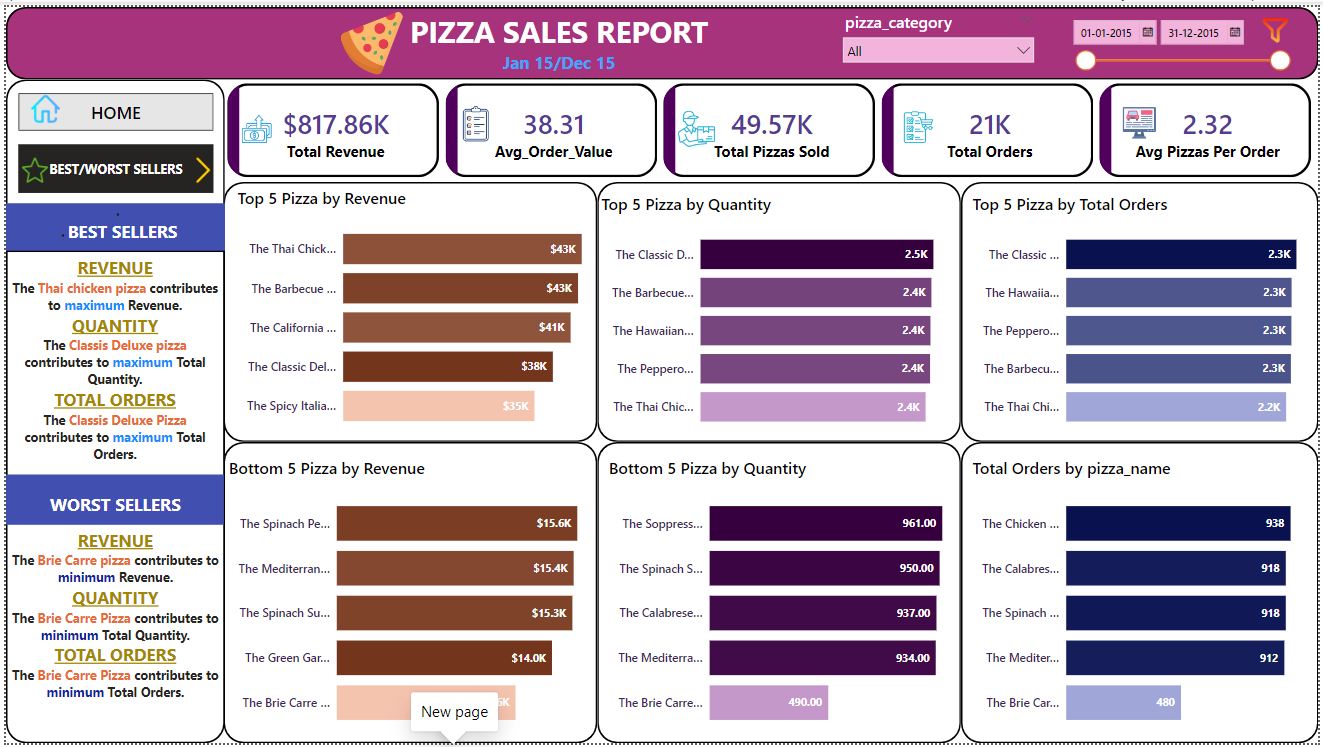

This screenshot's page, from the dashboard's own definition file:
{"tool":"powerbi","page":{"name":"BEST/WORST SELLERS","canvas":[1650,925],"ordinal":1},"visuals":[{"type":"cardVisual","fields":{"Data":["pizza_sales.Total Revenue","pizza_sales.Avg_Order_Value","pizza_sales.Total Pizzas Sold","pizza_sales.Total Orders","pizza_sales.Avg Pizzas Per Order"]},"box":[273.4,91.1,1376.2,128.8],"z":0},{"type":"shape","box":[273.4,219.9,469.7,326.8],"z":1000},{"type":"shape","box":[0,91.1,274.9,834.2],"z":2000},{"type":"textbox","box":[0,246.6,274.9,59.7],"z":3000},{"type":"textbox","box":[0,306.3,274.9,300.1],"z":4000},{"type":"textbox","box":[0,587.6,274.9,62.8],"z":5000},{"type":"textbox","box":[0,650.4,274.9,274.9],"z":6000},{"type":"shape","box":[0,0,1649.6,91.1],"z":7000},{"type":"textbox","box":[438.3,0,513.7,106.8],"z":8000},{"type":"slicer","fields":{"Values":["pizza_sales.pizza_category"]},"box":[1041.6,0,260.8,95.8],"z":9000},{"type":"slicer","fields":{"Values":["pizza_sales.order_date"]},"box":[1329.1,6.3,293.8,84.8],"z":10000},{"type":"shape","box":[743.1,219.9,457.2,326.8],"z":11000},{"type":"shape","box":[1200.2,219.9,449.3,326.8],"z":12000},{"type":"shape","box":[273.4,546.7,469.7,378.6],"z":13000},{"type":"shape","box":[743.1,546.7,457.2,378.6],"z":14000},{"type":"shape","box":[1200.2,546.7,449.3,378.6],"z":15000},{"type":"barChart","title":"Top 5 Pizza by Revenue","fields":{"Category":["pizza_sales.pizza_name"],"Y":["pizza_sales.Total Revenue"]},"box":[285.9,226.2,499.6,320.5],"z":16000},{"type":"barChart","title":"Bottom 5 Pizza by Revenue ","fields":{"Category":["pizza_sales.pizza_name"],"Y":["pizza_sales.Total Revenue"]},"box":[274.9,565.6,510.6,359.8],"z":17000},{"type":"barChart","title":"Top 5 Pizza by Quantity","fields":{"Category":["pizza_sales.pizza_name"],"Y":["pizza_sales.Total Pizzas Sold"]},"box":[743.1,234.1,466.6,312.6],"z":18000},{"type":"barChart","title":"Bottom 5 Pizza by Quantity","fields":{"Category":["pizza_sales.pizza_name"],"Y":["pizza_sales.Total Pizzas Sold"]},"box":[752.5,565.6,474.4,359.8],"z":19000},{"type":"barChart","title":"Top 5 Pizza by Total Orders","fields":{"Category":["pizza_sales.pizza_name"],"Y":["pizza_sales.Total Orders"]},"box":[1209.7,234.1,441.5,312.6],"z":20000},{"type":"barChart","fields":{"Category":["pizza_sales.pizza_name"],"Y":["pizza_sales.Total Orders"]},"box":[1209.7,565.6,439.9,359.8],"z":21000},{"type":"pageNavigator","box":[15.7,108.4,245.1,47.1],"z":22000},{"type":"pageNavigator","box":[15.7,172.8,245.1,61.3],"z":23000},{"type":"image","box":[369.2,0,180.7,91.1],"z":24000},{"type":"image","box":[207,184,81.4,42.5],"z":25000},{"type":"image","box":[838.9,114.7,58.1,77],"z":26000},{"type":"image","box":[1567.9,0,55,58.1],"z":27000},{"type":"image","box":[15.7,105.3,67.6,45.6],"z":28000},{"type":"image","box":[1398.2,117.8,51.8,55],"z":29000},{"type":"image","box":[1121.7,124.1,50.3,53.4],"z":30000},{"type":"image","box":[289.1,124.1,51.8,58.1],"z":31000},{"type":"image","box":[0,183.8,72.3,42.4],"z":32000},{"type":"image","box":[562.4,117.8,56.6,58.1],"z":33000}]}

Visuals, with their boxes in screenshot pixels (x1, y1, x2, y2), scaled from the page's 1650x925 canvas onto the 1323x747 screenshot:
cardVisual - pizza_sales.Total Revenue x pizza_sales.Avg_Order_Value: 219, 74, 1322, 178
shape: 219, 178, 596, 441
shape: 0, 74, 220, 746
textbox: 0, 199, 220, 247
textbox: 0, 247, 220, 490
textbox: 0, 475, 220, 525
textbox: 0, 525, 220, 746
shape: 0, 0, 1322, 74
textbox: 351, 0, 763, 86
slicer - pizza_sales.pizza_category: 835, 0, 1044, 77
slicer - pizza_sales.order_date: 1066, 5, 1301, 74
shape: 596, 178, 962, 441
shape: 962, 178, 1322, 441
shape: 219, 441, 596, 746
shape: 596, 441, 962, 746
shape: 962, 441, 1322, 746
"Top 5 Pizza by Revenue" barChart: 229, 183, 630, 441
"Bottom 5 Pizza by Revenue " barChart: 220, 457, 630, 746
"Top 5 Pizza by Quantity" barChart: 596, 189, 970, 441
"Bottom 5 Pizza by Quantity" barChart: 603, 457, 984, 746
"Top 5 Pizza by Total Orders" barChart: 970, 189, 1322, 441
barChart - pizza_sales.pizza_name x pizza_sales.Total Orders: 970, 457, 1322, 746
pageNavigator: 13, 88, 209, 126
pageNavigator: 13, 140, 209, 189
image: 296, 0, 441, 74
image: 166, 149, 231, 183
image: 673, 93, 719, 155
image: 1257, 0, 1301, 47
image: 13, 85, 67, 122
image: 1121, 95, 1163, 140
image: 899, 100, 940, 143
image: 232, 100, 273, 147
image: 0, 148, 58, 183
image: 451, 95, 496, 142
